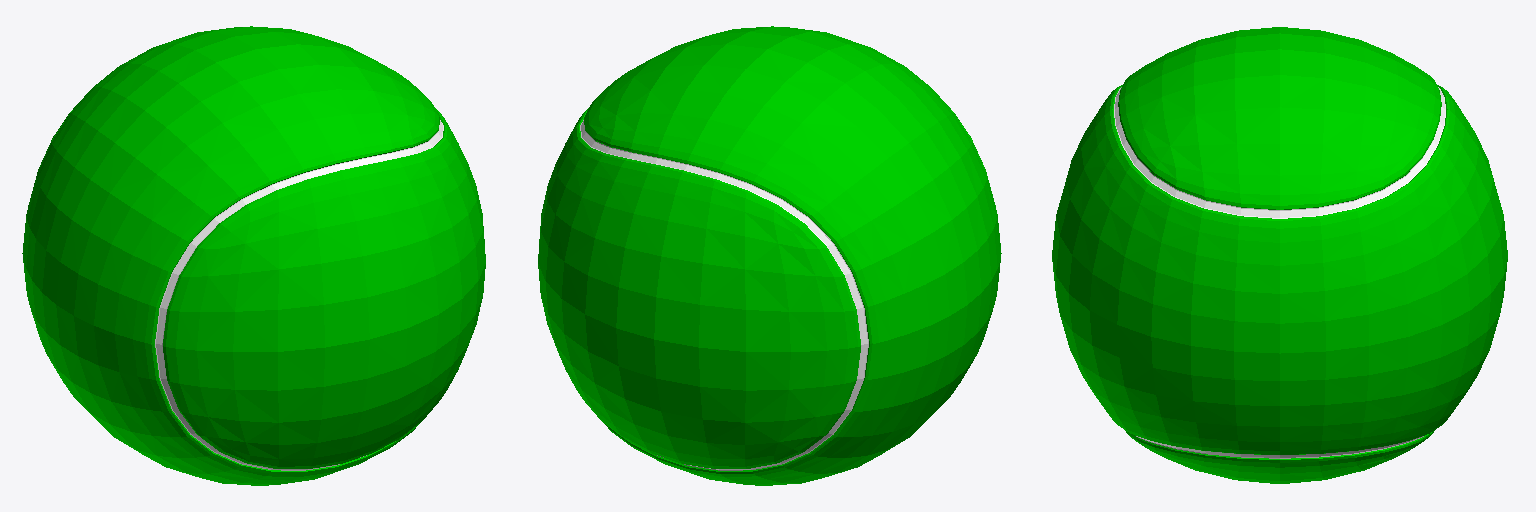
The model's file is Ball.obj.
3 views of the same model, side by side, from view 1: azimuth 30°, elevation 25°; view 2: azimuth 150°, elevation 25°; view 3: azimuth 270°, elevation 25° (orthographic).
Visible parts, largest first — view 1: Tennis_Ball; view 2: Tennis_Ball; view 3: Tennis_Ball.
Part boxes in pixels (x1,y1,x2,y2): Tennis_Ball: (22, 26, 485, 485); Tennis_Ball: (538, 26, 1001, 485); Tennis_Ball: (1052, 27, 1507, 483).
Size of the model in its own units: 4.71 by 4.66 by 4.66.